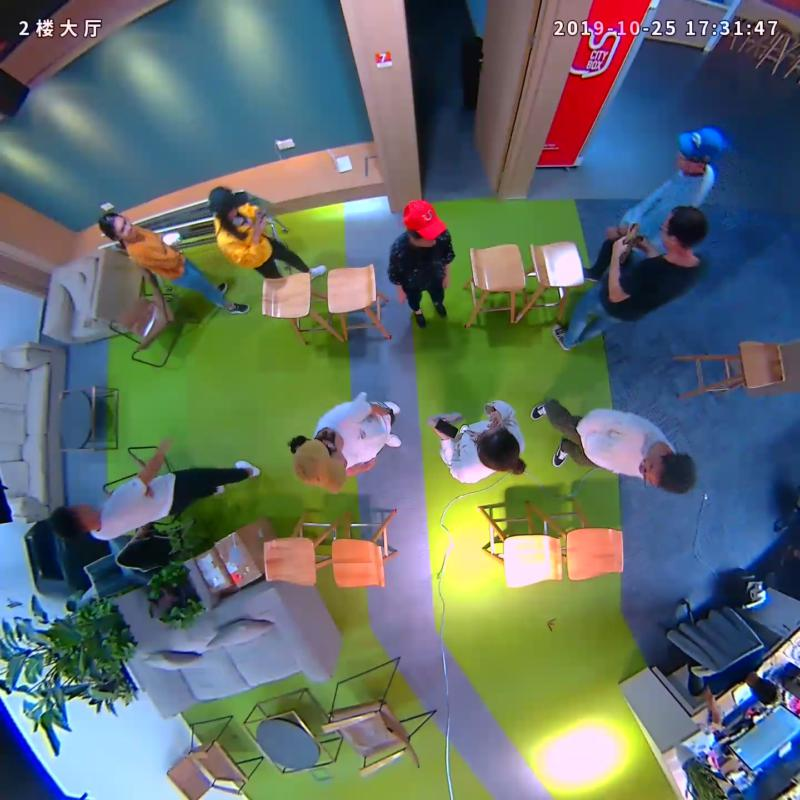head: (290, 437, 346, 491), (677, 123, 727, 174), (639, 451, 696, 495), (659, 205, 709, 251), (400, 197, 448, 243), (476, 424, 522, 471), (50, 503, 95, 538), (207, 186, 251, 219), (98, 210, 137, 241)
